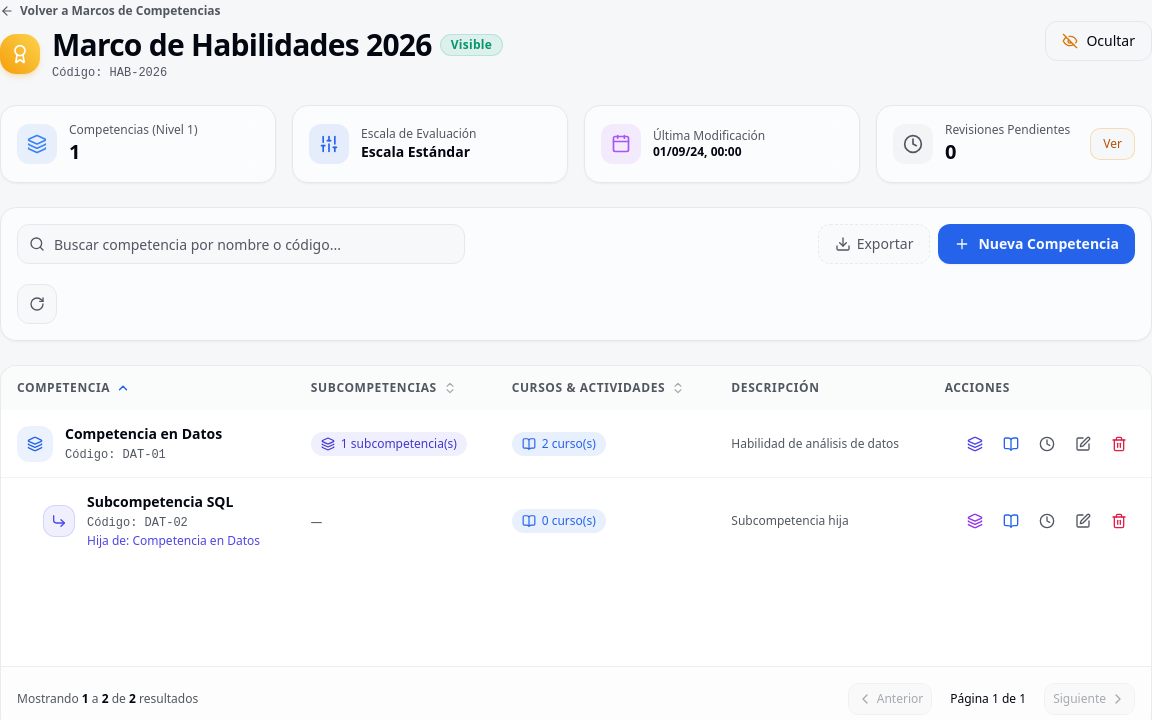
Scenario: CompetencyFrameworkDetailView & CompetencyCoursesModal › opens competency pending reviews modal when clicking reviews action button in table
The width and height of the screenshot is (1152, 720).
Expected: the text "Competencia en Datos" is shown, [65, 424, 222, 444]
Click the button titled "Ver revisiones pendientes" next to "Habilidad de análisis de datos".
click(1047, 444)  # box [1031, 428, 1063, 460]
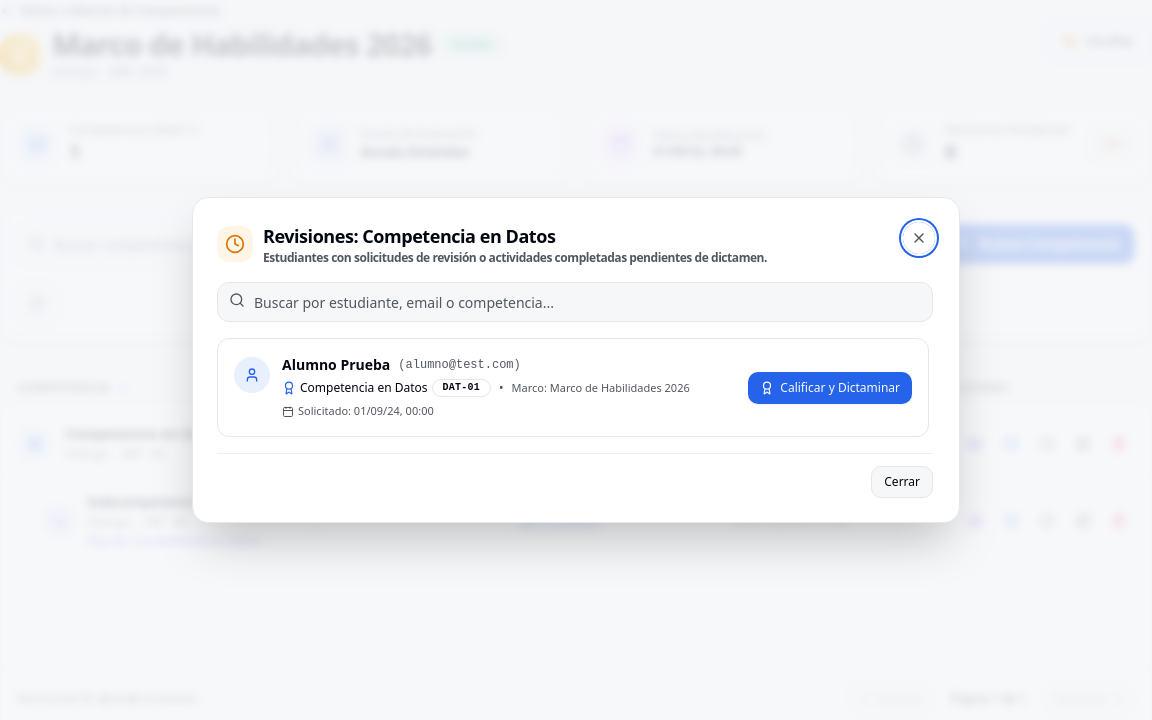
Result: the text "Alumno Prueba" is shown at [282, 355, 390, 375]
Result: the text "(alumno@test.com)" is shown at [398, 357, 521, 373]
